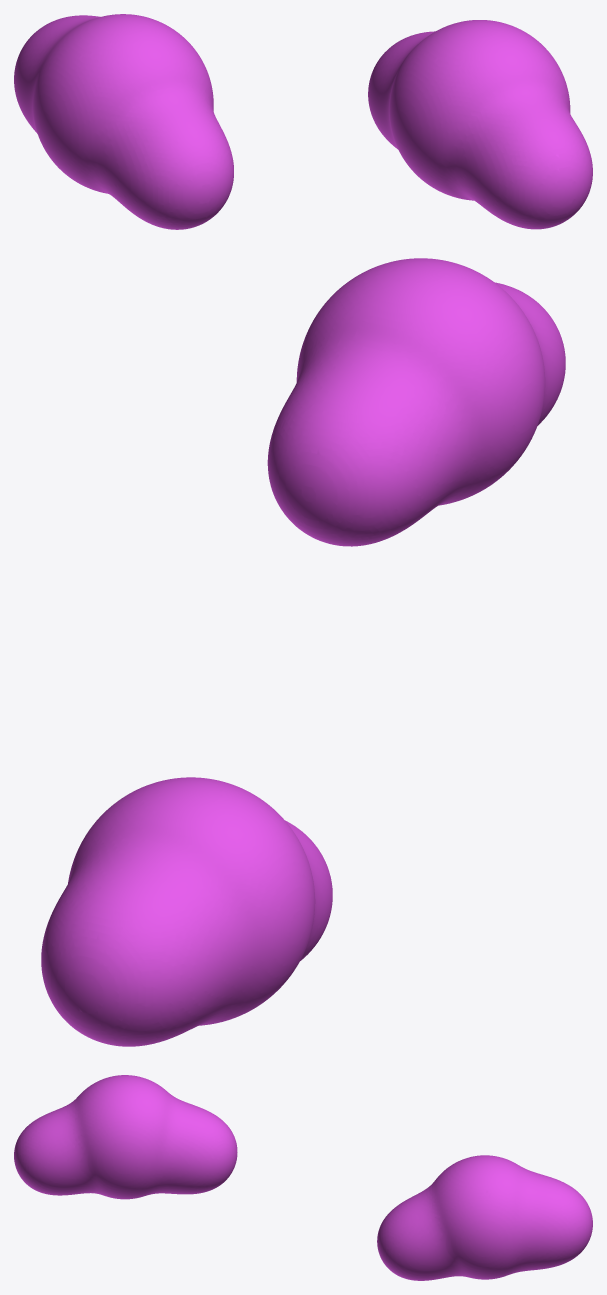
File: pinkCloud.fbx
3 renders of one model, top to bottom at view 1: azimuth 30°, elevation 25°; view 2: azimuth 150°, elevation 25°; view 3: azimuth 270°, elevation 25°, orthographic. The views are drawn at different scales.
Visible parts, largest first — view 1: Mball; view 2: Mball; view 3: Mball.
Boxes of the visible parts, x1,y1,x2,y2 form: Mball: (14,14,592,229); Mball: (41,258,565,1046); Mball: (14,1075,592,1280).
Size of the model in its own units: 418 by 524 by 1214.
